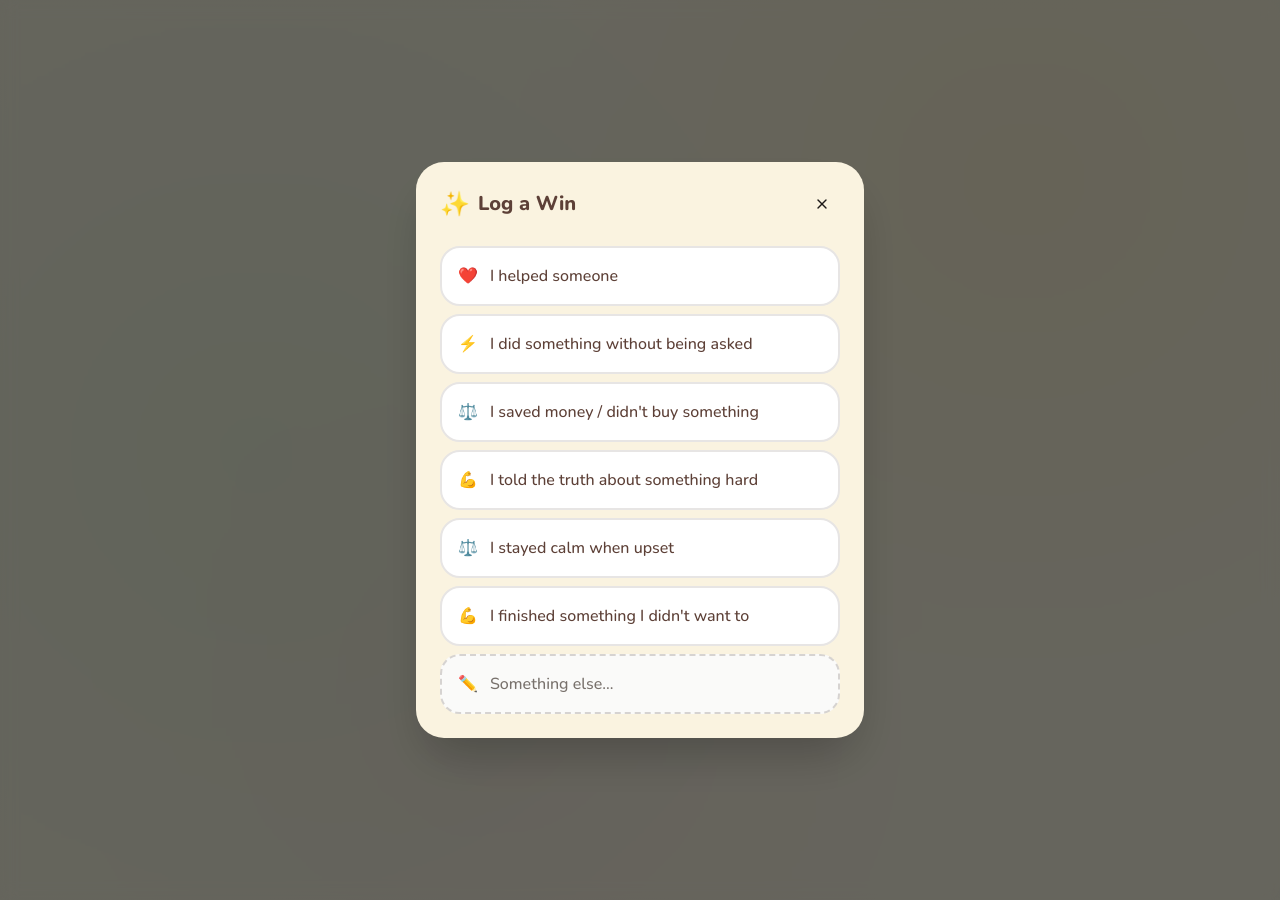
it: SelfReportLog › Custom Log › navigates to custom form when 'Something else...' clicked
Step 1. Click the text "Something else..." → (552, 684), box [490, 673, 614, 695]
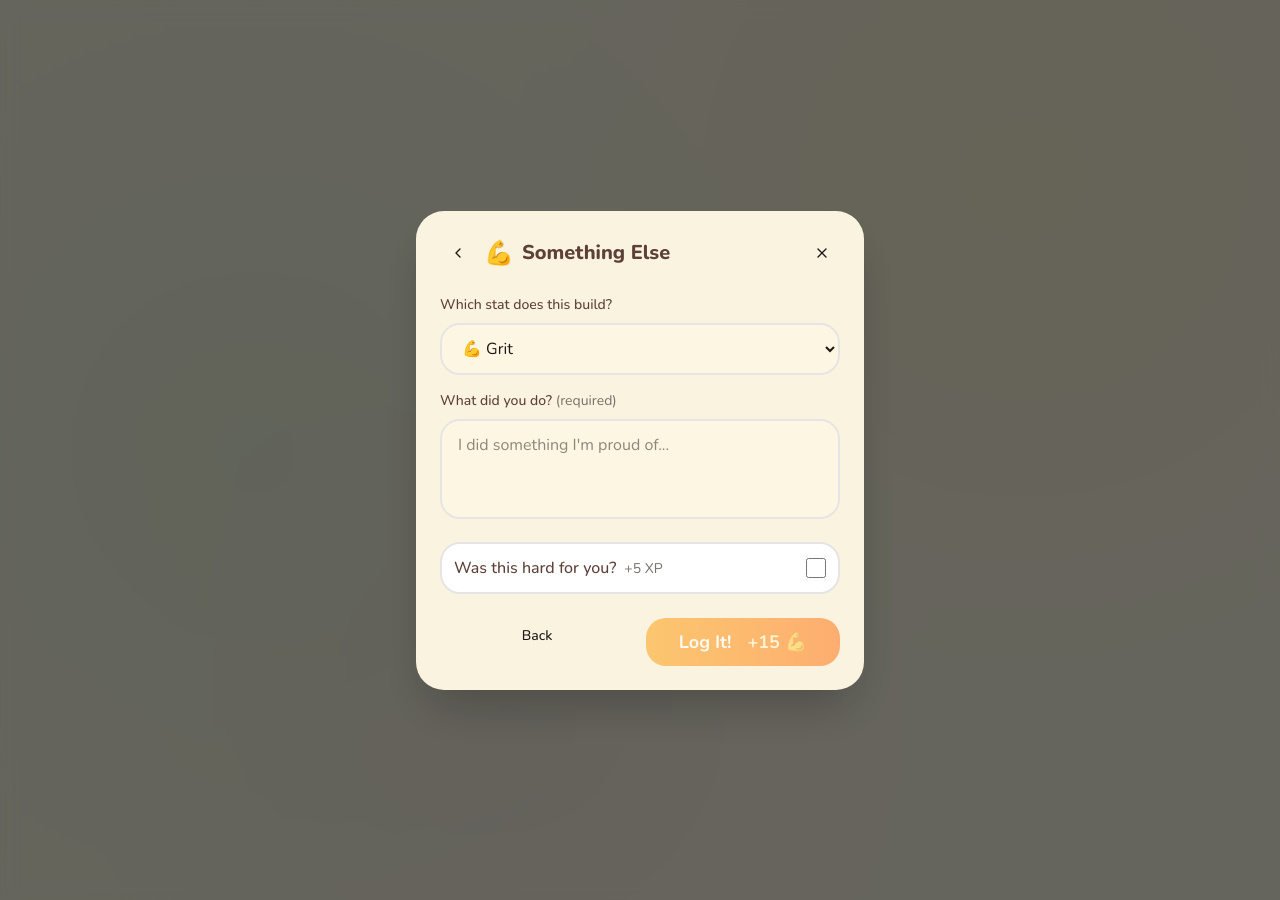
Expected: the heading "💪 Something Else" is shown, [484, 236, 670, 268]
Expected: the text "Which stat does this build?" is shown, [440, 294, 612, 314]
Expected: the dropdown is shown, [440, 322, 840, 374]
